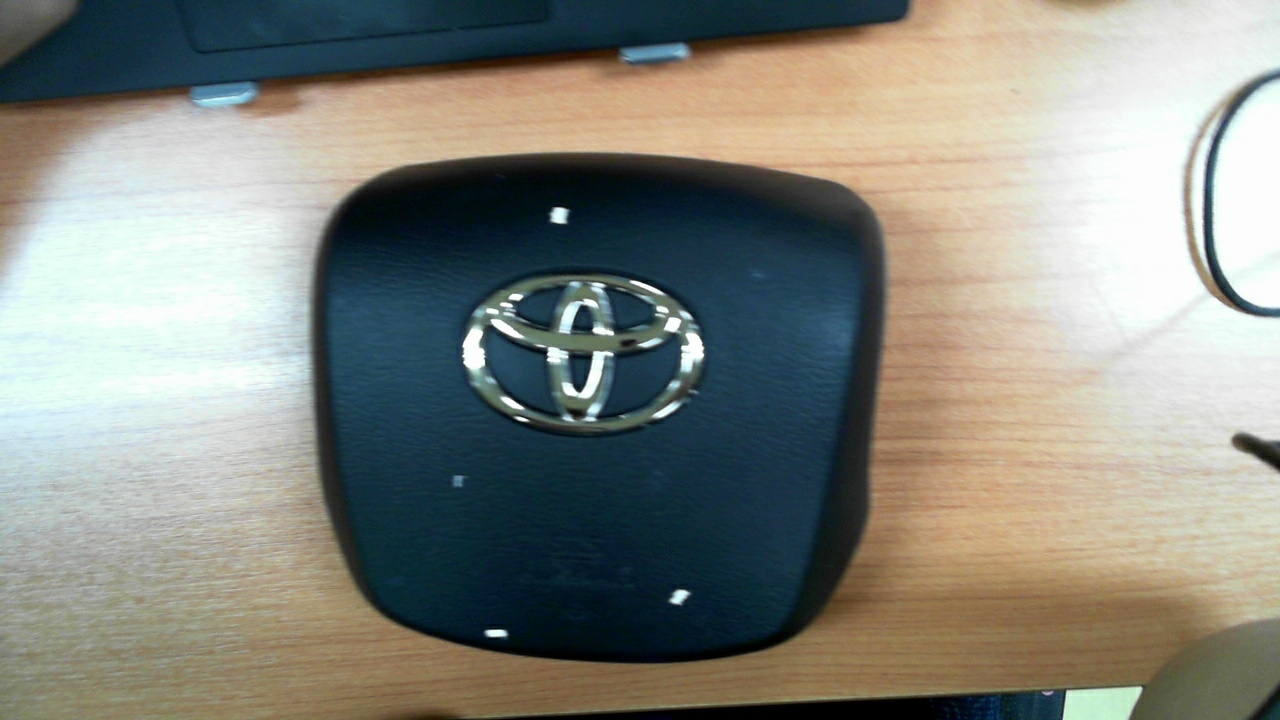Airbag: (316, 154, 885, 662)
Mark: (549, 206, 571, 225), (669, 589, 691, 606), (483, 629, 509, 638), (453, 474, 464, 488)
